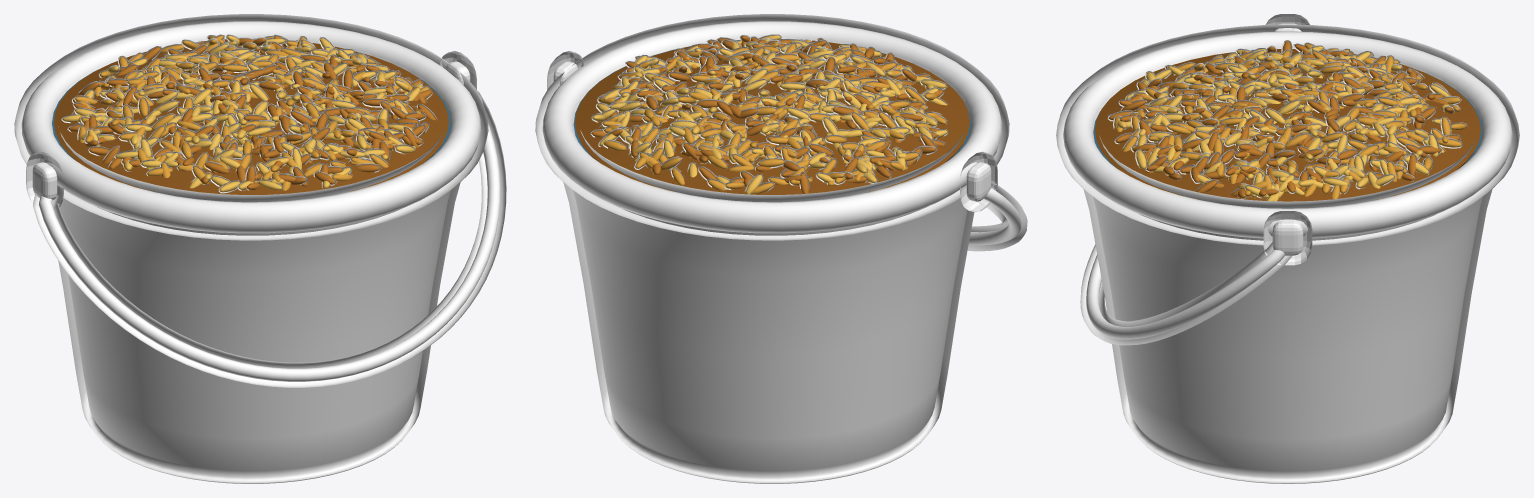
The model's file is eimer-alle.glb.
3 views of the same model, side by side, from view 1: azimuth 30°, elevation 25°; view 2: azimuth 150°, elevation 25°; view 3: azimuth 270°, elevation 25° (orthographic). The views are drawn at different scales.
Visible parts, largest first — view 1: koerper, Torus, buegel, hafer_dunkel, hafer_hell, hafer_mittel, hafer_haufen, Cube, Cube.001; view 2: koerper, Torus, hafer_mittel, hafer_hell, hafer_dunkel, hafer_haufen, buegel, Cube, Cube.001; view 3: koerper, Torus, hafer_dunkel, hafer_hell, hafer_mittel, hafer_haufen, buegel, Cube.001, Cube.
Part boxes in pixels (box(x1,y1,x2,y2)): koerper: box(58, 182, 460, 483); Torus: box(14, 14, 488, 240); buegel: box(33, 90, 506, 387); hafer_dunkel: box(67, 34, 437, 190); hafer_hell: box(61, 34, 423, 193); hafer_mittel: box(71, 34, 430, 190); hafer_haufen: box(51, 36, 451, 194); Cube: box(26, 151, 63, 207); Cube.001: box(439, 51, 476, 89); koerper: box(563, 182, 974, 483); Torus: box(535, 14, 1009, 240); hafer_mittel: box(596, 39, 947, 193); hafer_hell: box(591, 34, 948, 194); hafer_dunkel: box(590, 34, 946, 193); hafer_haufen: box(572, 36, 972, 194); buegel: box(967, 182, 1027, 251); Cube: box(960, 151, 997, 212); Cube.001: box(547, 51, 584, 89); koerper: box(1083, 189, 1492, 483); Torus: box(1056, 24, 1519, 245); hafer_dunkel: box(1107, 40, 1461, 199); hafer_hell: box(1108, 45, 1451, 201); hafer_mittel: box(1113, 42, 1467, 198); hafer_haufen: box(1092, 46, 1483, 201); buegel: box(1080, 242, 1292, 345); Cube.001: box(1263, 211, 1312, 265); Cube: box(1265, 14, 1310, 31).
Size of the model in its own units: 43.09 by 30.03 by 39.4.
